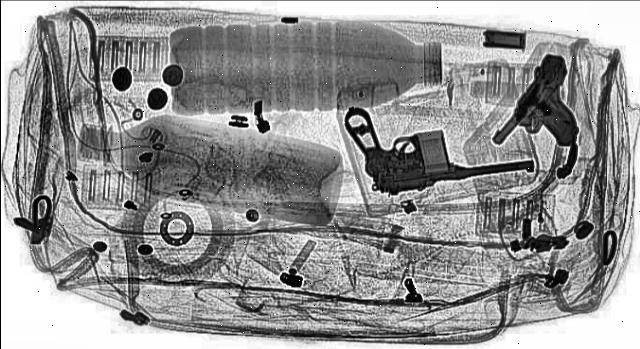Gun: (321, 87, 539, 199), (476, 52, 632, 156)
